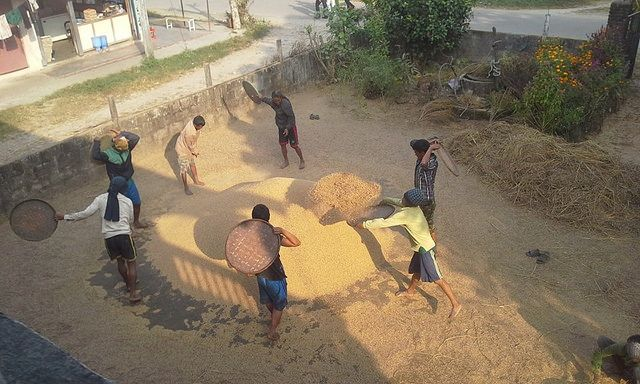human: (55, 178, 168, 288), (362, 188, 458, 316), (224, 205, 307, 336), (82, 132, 157, 226), (238, 80, 314, 169), (405, 139, 455, 230), (166, 116, 209, 193)
